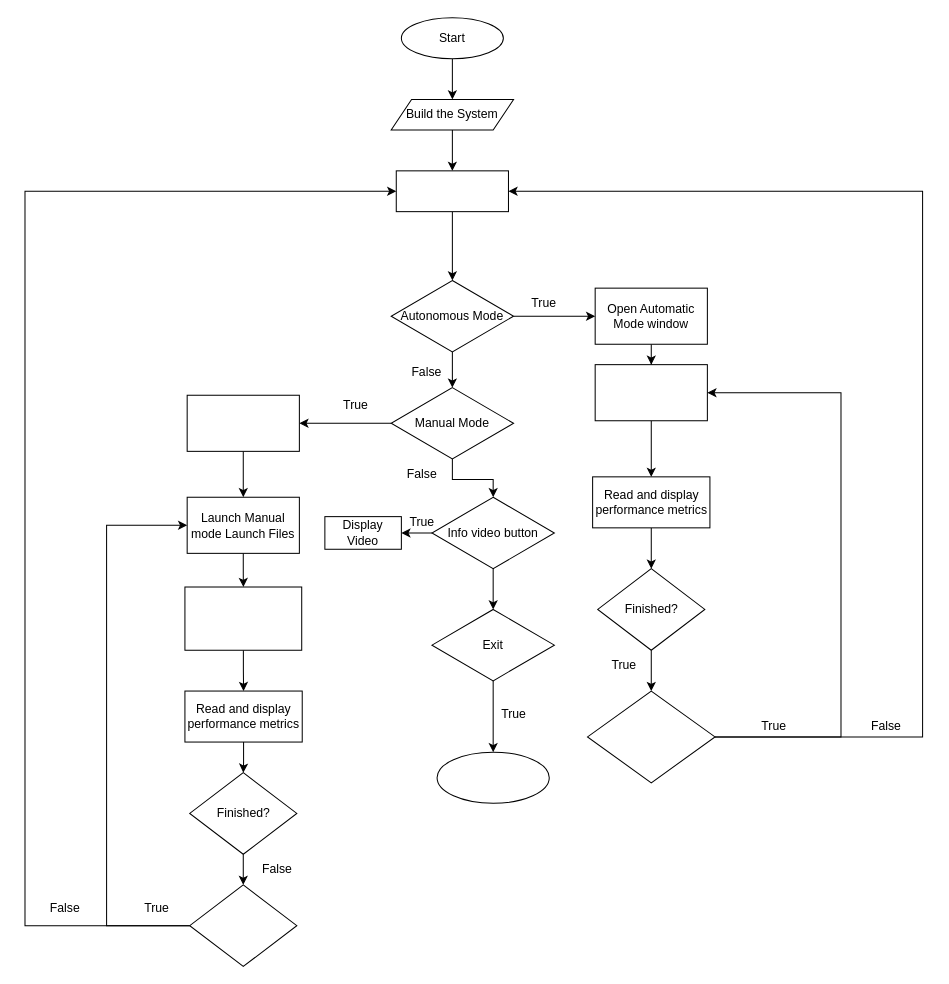
The diagram is 949 pixels wide and 984 high, and some of its shapes have lost their labels. The shapes that lost their labels are listed below. From the top down, each one's box as (x1, y1, x2, y2) in pixels, then its label:
(395, 170, 508, 212): Welcome Screen and display options
(594, 364, 707, 421): Launch Automatic mode Launch Files
(186, 394, 299, 451): Open Manual Mode window
(184, 586, 302, 650): Launch Camera View
(586, 690, 715, 783): Rerun for new path
(436, 751, 549, 803): Stop
(189, 884, 297, 966): Replay
